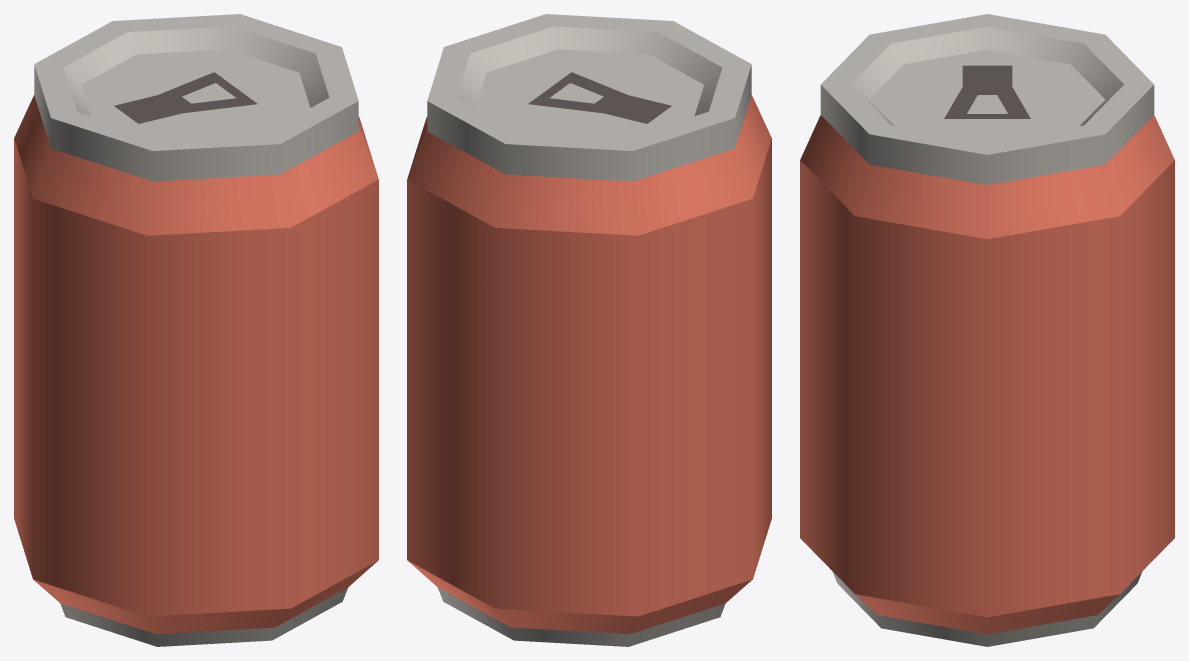
The model's file is Soda.fbx.
3 views of the same model, side by side, from view 1: azimuth 30°, elevation 25°; view 2: azimuth 150°, elevation 25°; view 3: azimuth 270°, elevation 25° (orthographic).
Parts seen in each view (by area): view 1: sodaCan; view 2: sodaCan; view 3: sodaCan.
Boxes of the visible parts, x1,y1,x2,y2 form: sodaCan: [14, 14, 378, 646]; sodaCan: [407, 14, 771, 646]; sodaCan: [800, 14, 1174, 646].
Size of the model in its own units: 0.2246 by 0.33 by 0.2246.
